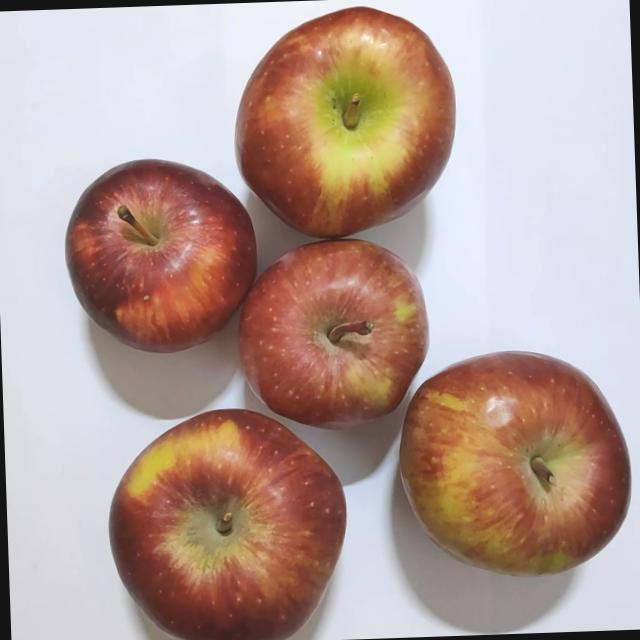apple: (383, 336, 628, 592), (98, 398, 350, 640), (224, 7, 456, 253), (57, 154, 263, 368), (228, 232, 434, 432)
